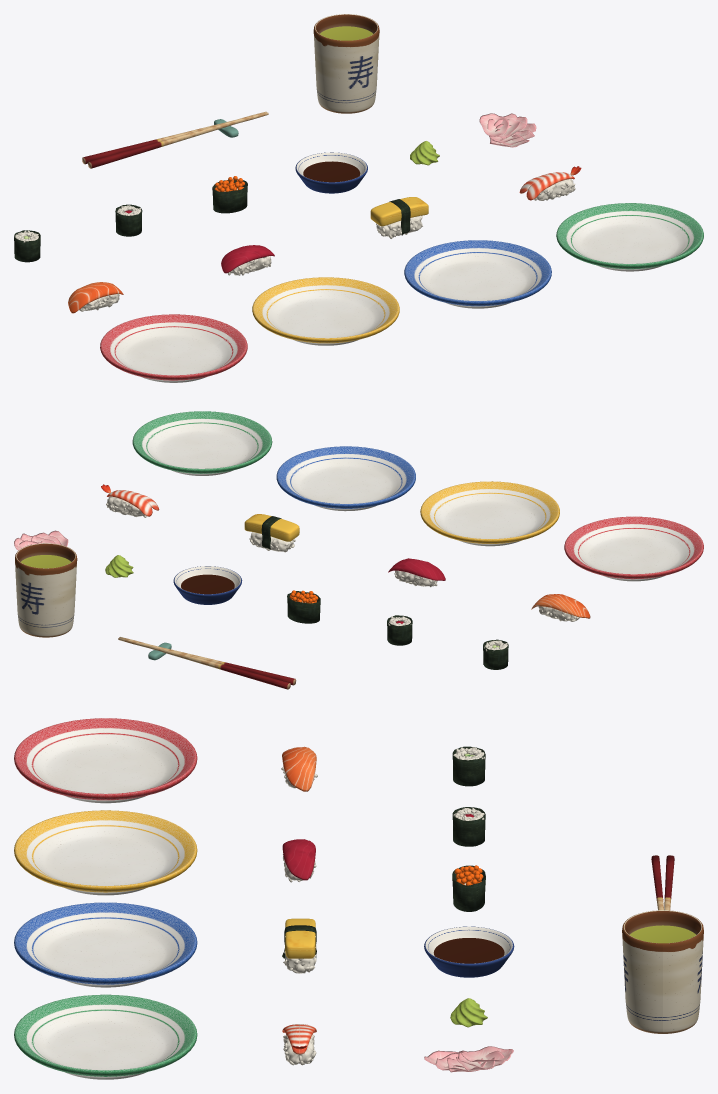
The model's file is sushi_set.glb.
3 views of the same model, one above another, from view 1: azimuth 30°, elevation 25°; view 2: azimuth 150°, elevation 25°; view 3: azimuth 270°, elevation 25° (orthographic). The views are drawn at different scales.
Parts seen in each view (by area): view 1: plate_red, plate_green, plate_yellow, plate_blue, teacup, soy_dish, chopsticks, nigiri_tamago, gari, nigiri_ebi, nigiri_tuna, nigiri_salmon (+3 smaller); view 2: plate_red, plate_yellow, plate_green, plate_blue, teacup, soy_dish, chopsticks, nigiri_tamago, nigiri_ebi, nigiri_tuna, nigiri_salmon, gunkan_ikura (+4 smaller); view 3: plate_blue, plate_yellow, plate_green, plate_red, teacup, soy_dish, nigiri_tamago, gari, gunkan_ikura, nigiri_salmon, nigiri_tuna, maki_cucumber (+4 smaller).
Boxes of the visible parts, x1,y1,x2,y2 form: plate_red: (100, 314, 247, 382); plate_green: (556, 203, 703, 271); plate_yellow: (252, 277, 399, 345); plate_blue: (404, 240, 551, 308); teacup: (313, 14, 379, 113); soy_dish: (295, 152, 367, 193); chopsticks: (82, 111, 268, 168); nigiri_tamago: (370, 197, 428, 238); gari: (479, 113, 536, 147); nigiri_ebi: (519, 166, 581, 200); nigiri_tuna: (221, 245, 274, 275); nigiri_salmon: (68, 282, 123, 313); plate_red: (564, 516, 703, 581); plate_yellow: (420, 481, 559, 546); plate_green: (132, 411, 272, 475); plate_blue: (276, 446, 415, 511); teacup: (15, 543, 77, 637); soy_dish: (173, 566, 242, 604); chopsticks: (118, 637, 296, 689); nigiri_tamago: (244, 514, 299, 552); nigiri_ebi: (101, 484, 159, 517); nigiri_tuna: (388, 558, 445, 587); nigiri_salmon: (531, 594, 590, 621); gunkan_ikura: (287, 590, 320, 623); plate_blue: (14, 902, 197, 987); plate_yellow: (14, 810, 197, 895); plate_green: (14, 994, 197, 1079); plate_red: (14, 718, 197, 803); teacup: (622, 910, 703, 1033); soy_dish: (424, 926, 514, 977); nigiri_tamago: (282, 918, 316, 973); gari: (424, 1046, 513, 1072); gunkan_ikura: (452, 865, 485, 911); nigiri_salmon: (281, 746, 317, 791); nigiri_tuna: (282, 839, 316, 882); maki_cucumber: (452, 746, 485, 786).
Size of the model in its own units: 0.6914 by 0.0851 by 0.5695.
23 materials, 14 textured.
